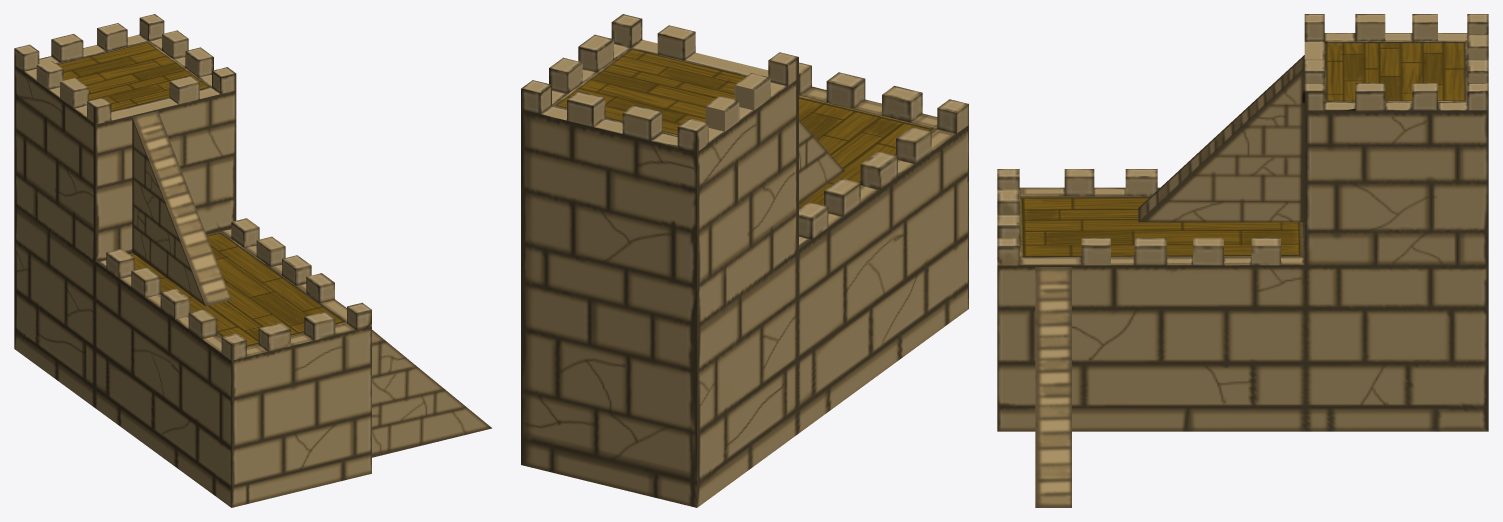
Rendered from Tower1.fbx.
3 renders of one model, left to right at view 1: azimuth 30°, elevation 25°; view 2: azimuth 150°, elevation 25°; view 3: azimuth 270°, elevation 25°, orthographic. The views are drawn at different scales.
Parts seen in each view (by area): view 1: pCube30, pCube34, pCube31; view 2: pCube30, pCube34; view 3: pCube30, pCube34, pCube31.
Boxes of the visible parts, bbox=[...] form: pCube30: bbox=[14, 14, 371, 507]; pCube34: bbox=[132, 111, 231, 305]; pCube31: bbox=[372, 330, 491, 457]; pCube30: bbox=[521, 14, 968, 507]; pCube34: bbox=[799, 120, 844, 204]; pCube30: bbox=[997, 14, 1488, 431]; pCube34: bbox=[1138, 55, 1304, 222]; pCube31: bbox=[1035, 267, 1071, 507].
Bounding box in the file's own units: 6.39 × 6.62 × 8.66.
